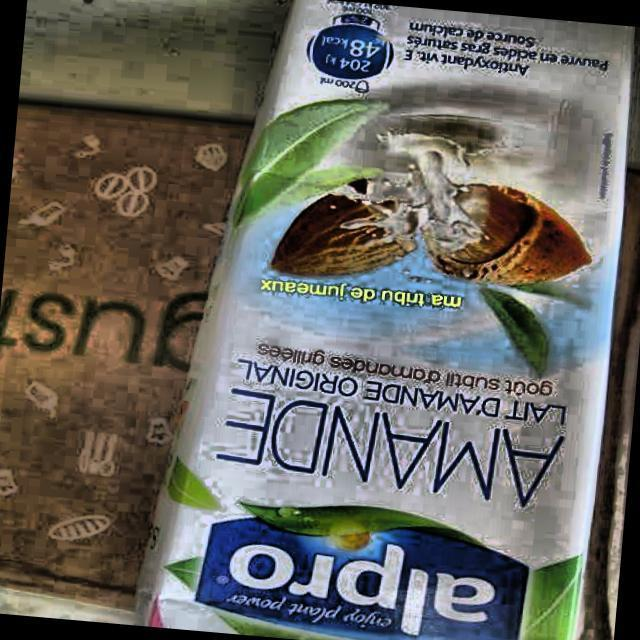cardboard: (138, 0, 640, 640), (0, 100, 254, 625)
